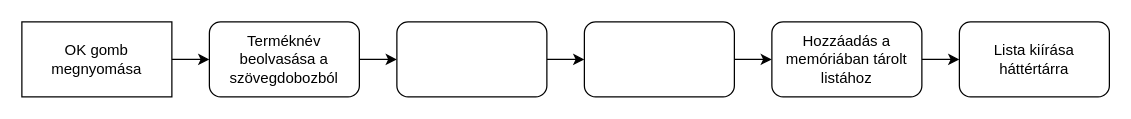
The diagram is 1131 pixels wide and 119 high, and some of its shapes have lost their labels. Each missing label, with the centre of its shape:
"Mennyiség beolvasása a szövegdobozból" belongs at point (471, 59).
"Mértékegység beolvasása a szövegdobozból" belongs at point (658, 59).
